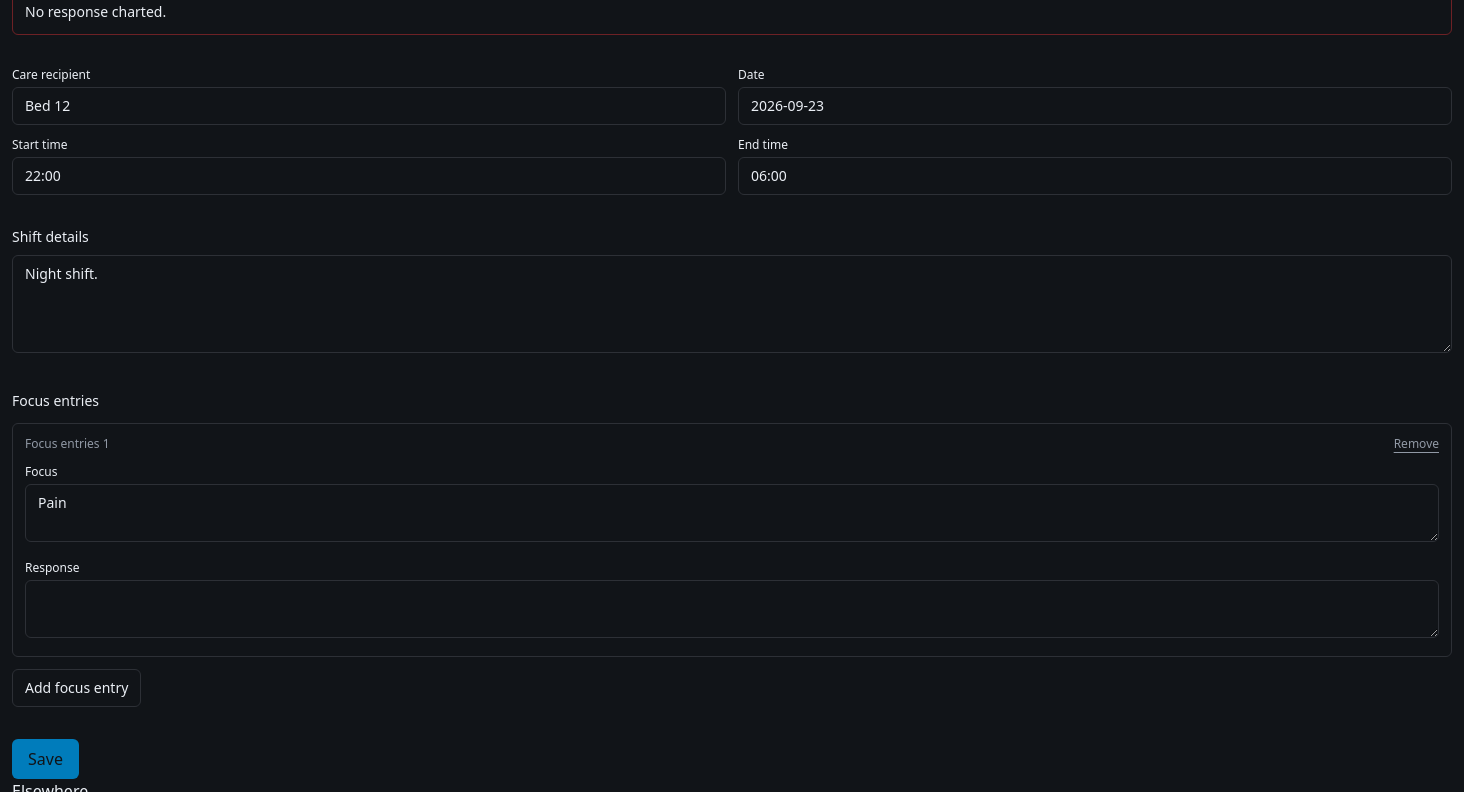
Scenario: NoteEditor › shows an ordinary save failure without treating it as a conflict
The width and height of the screenshot is (1464, 792).
(page scrolled)
Click the button "Save" at (45,759), box top-left (12, 739), bottom-right (79, 779)
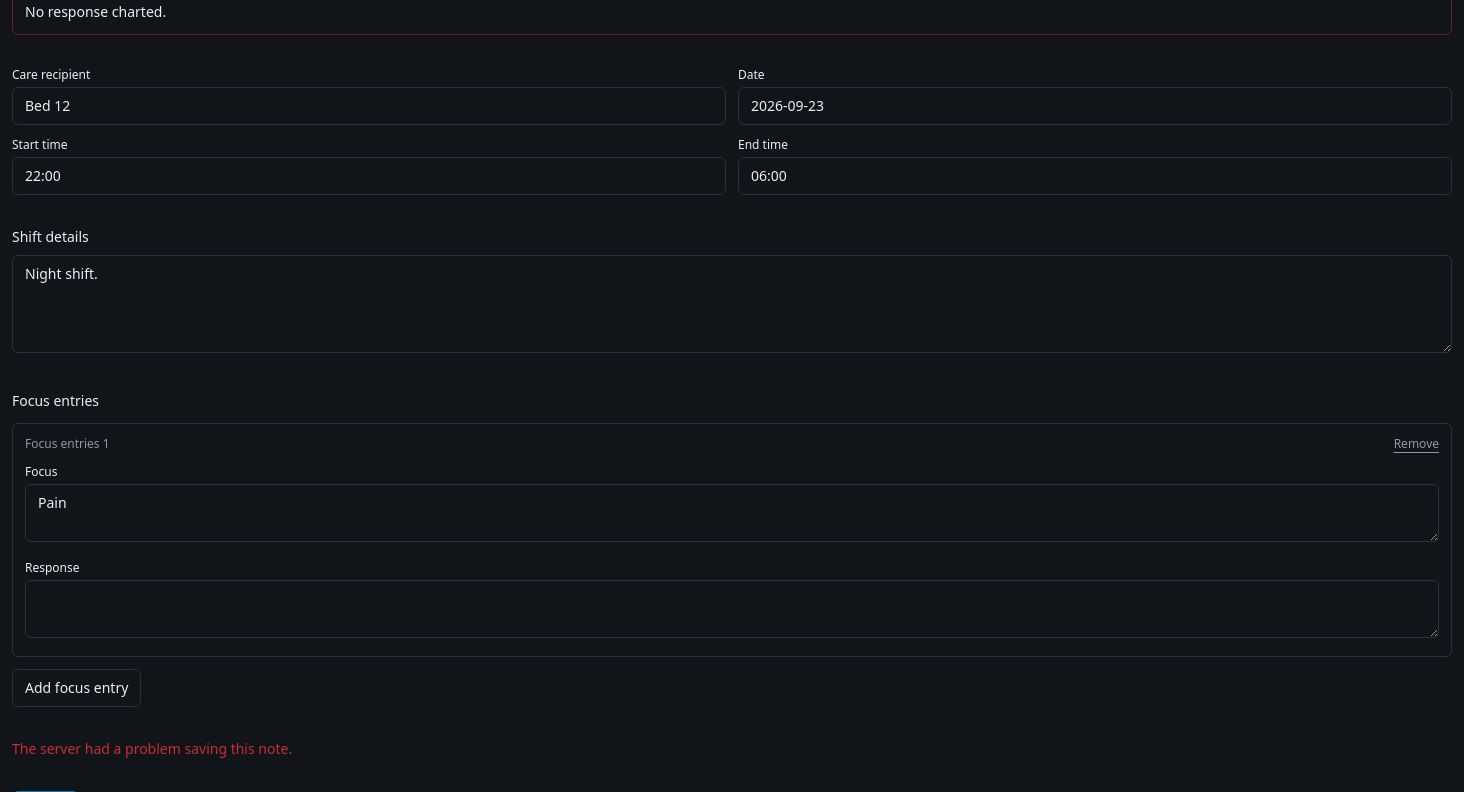
Expected: the text "The server had a problem saving this note." is shown, top-left (12, 739), bottom-right (292, 758)
